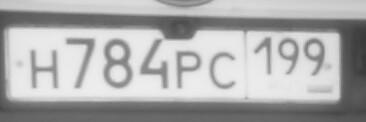license-plateSW: (3, 26, 348, 106)
